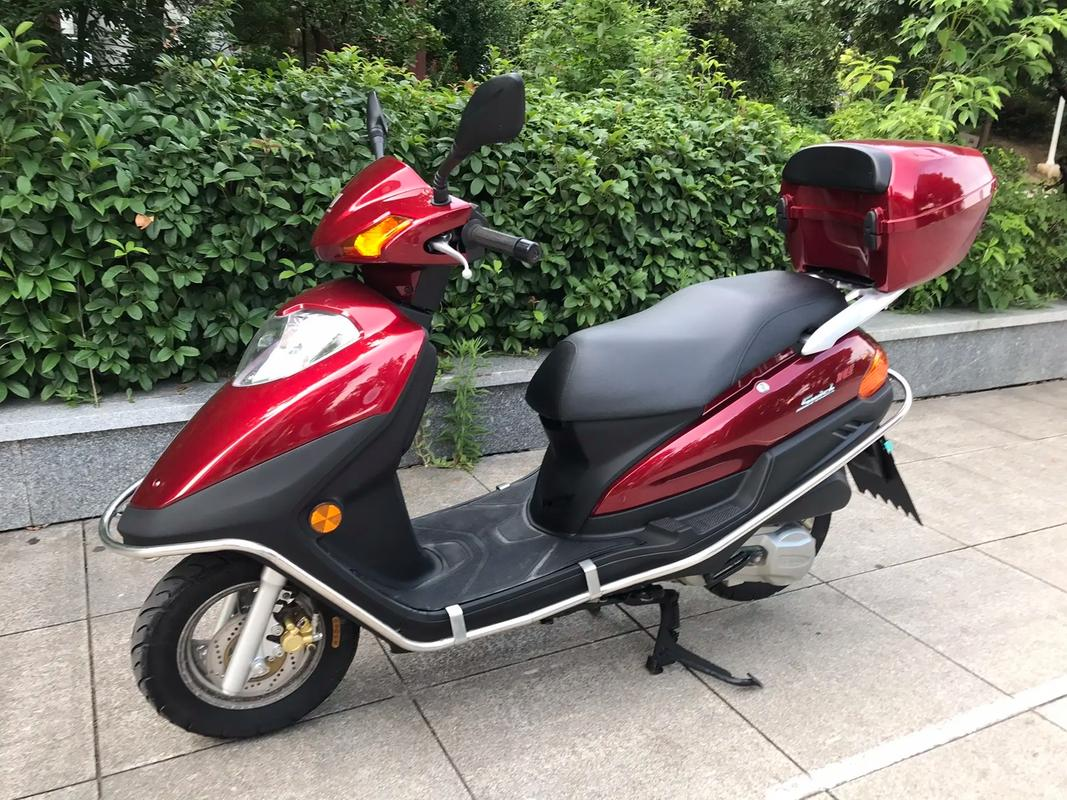摩托车: (115, 95, 1008, 751)
